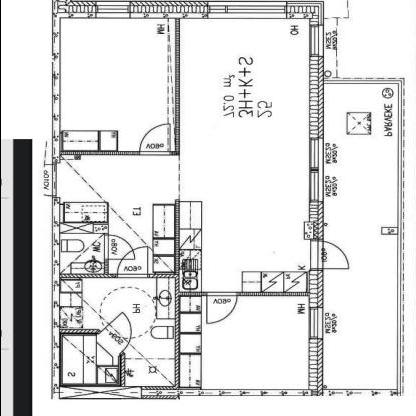door: (93, 306, 133, 358), (199, 281, 239, 331), (307, 238, 351, 274), (112, 242, 150, 280), (135, 121, 172, 159), (100, 232, 135, 262)
window: (302, 131, 330, 205), (201, 0, 291, 22), (304, 21, 328, 63), (304, 304, 328, 344), (90, 1, 134, 21)
